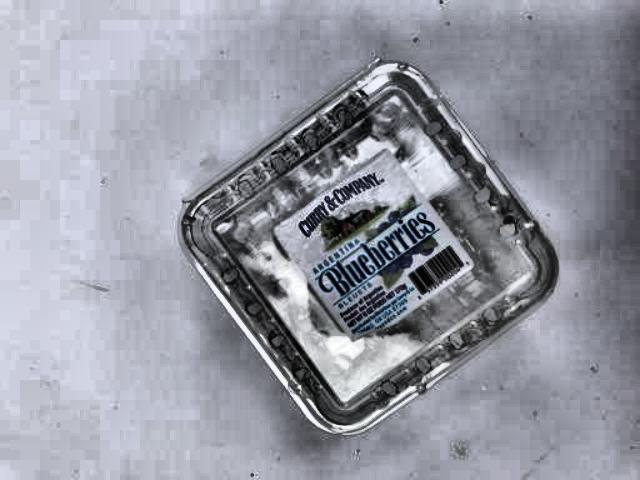Plastic: (176, 55, 566, 437)
